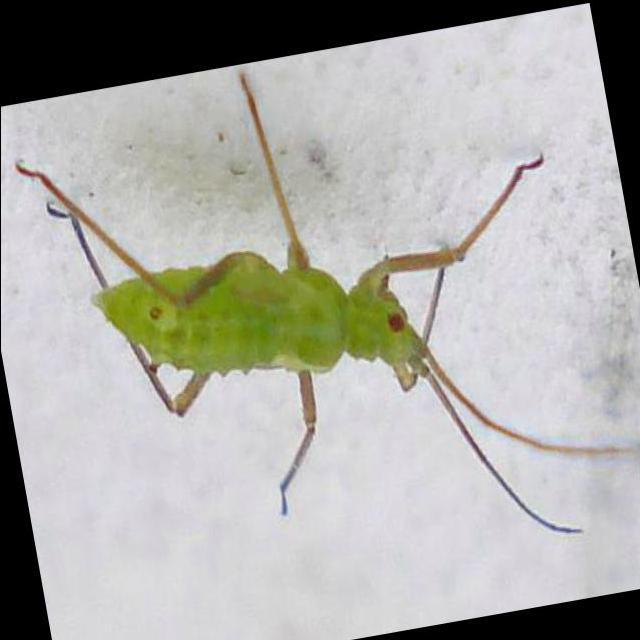aphid: (3, 29, 640, 639)
